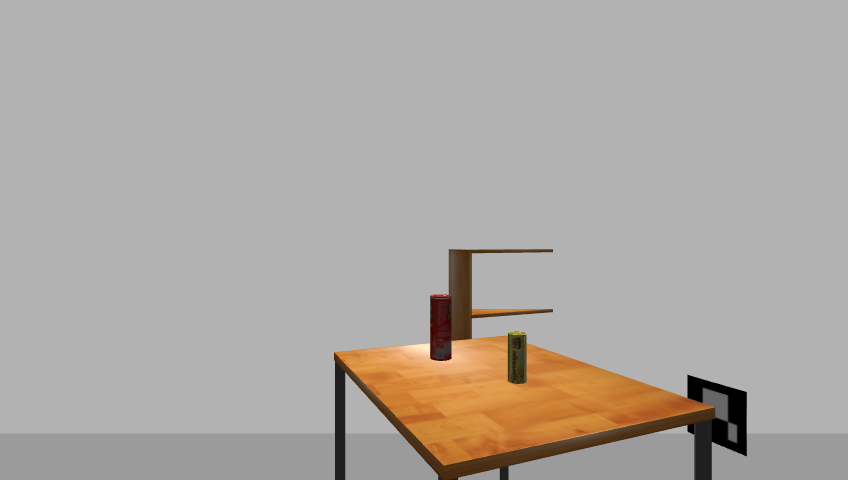aruco marker: (682, 374, 753, 457)
biscuits pack: (506, 331, 529, 385)
bookshelf: (446, 242, 560, 401)
dinner table: (327, 337, 722, 480)
pringles can: (428, 293, 453, 363)
